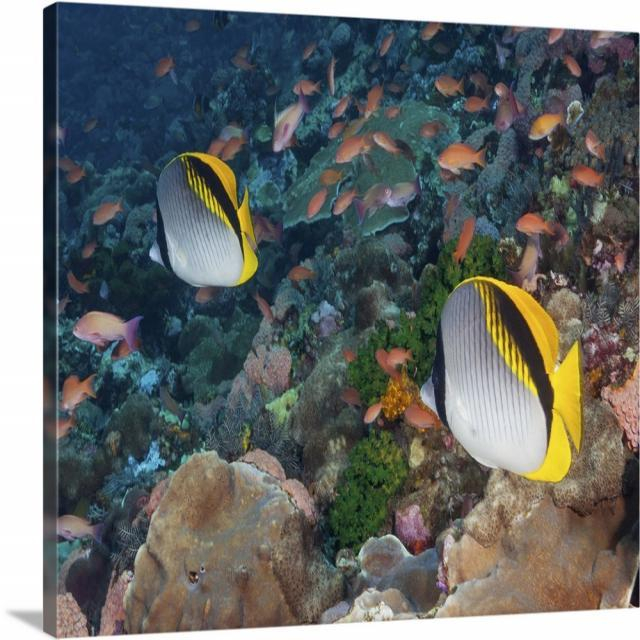ButterflyFish: (423, 272, 599, 506), (115, 90, 262, 284)
